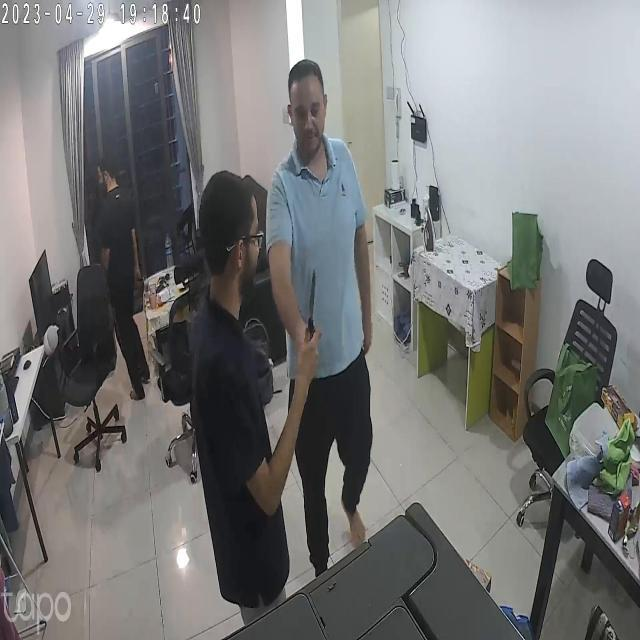Knife: (298, 264, 334, 343)
